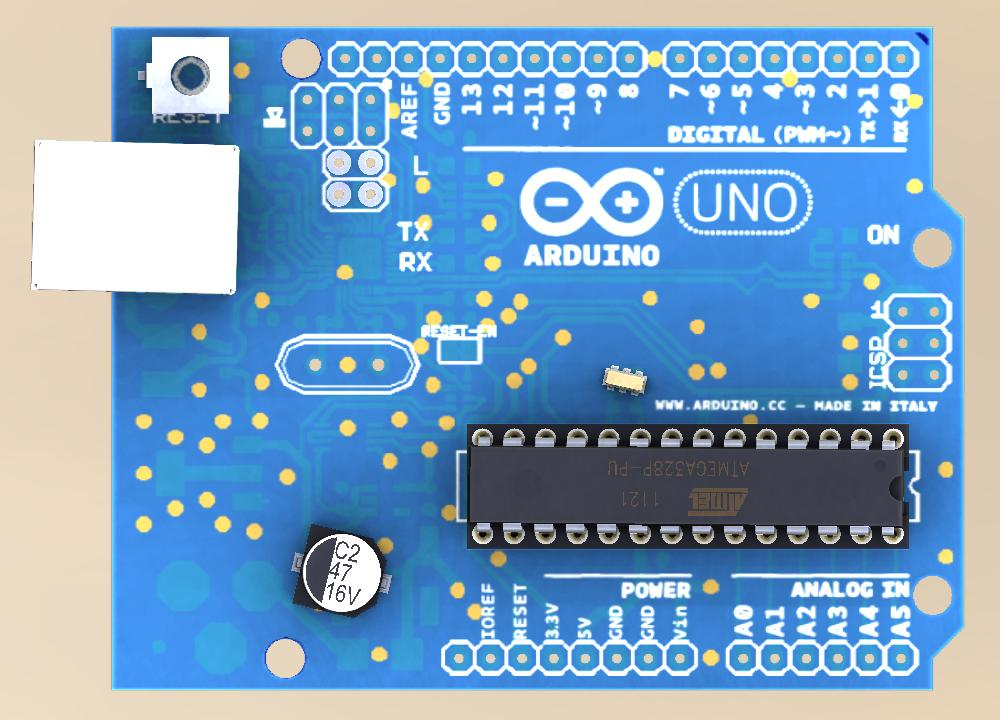16MHz Crystal: (596, 360, 651, 401)
47uF CAP: (288, 523, 394, 618)
ATMEL328P: (467, 425, 909, 548)
USB: (29, 136, 246, 297)
